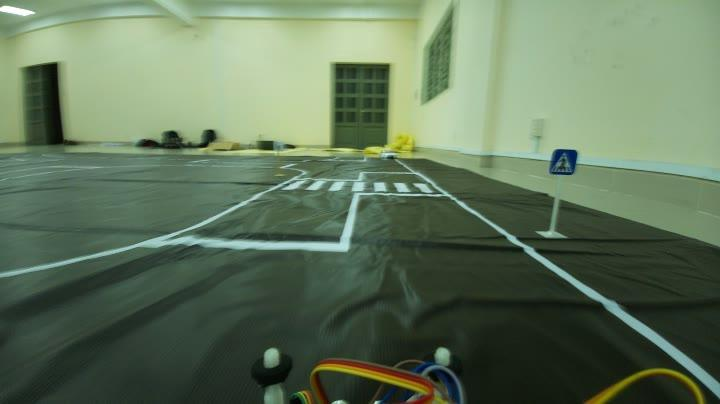crosswalk: (544, 140, 582, 184)
